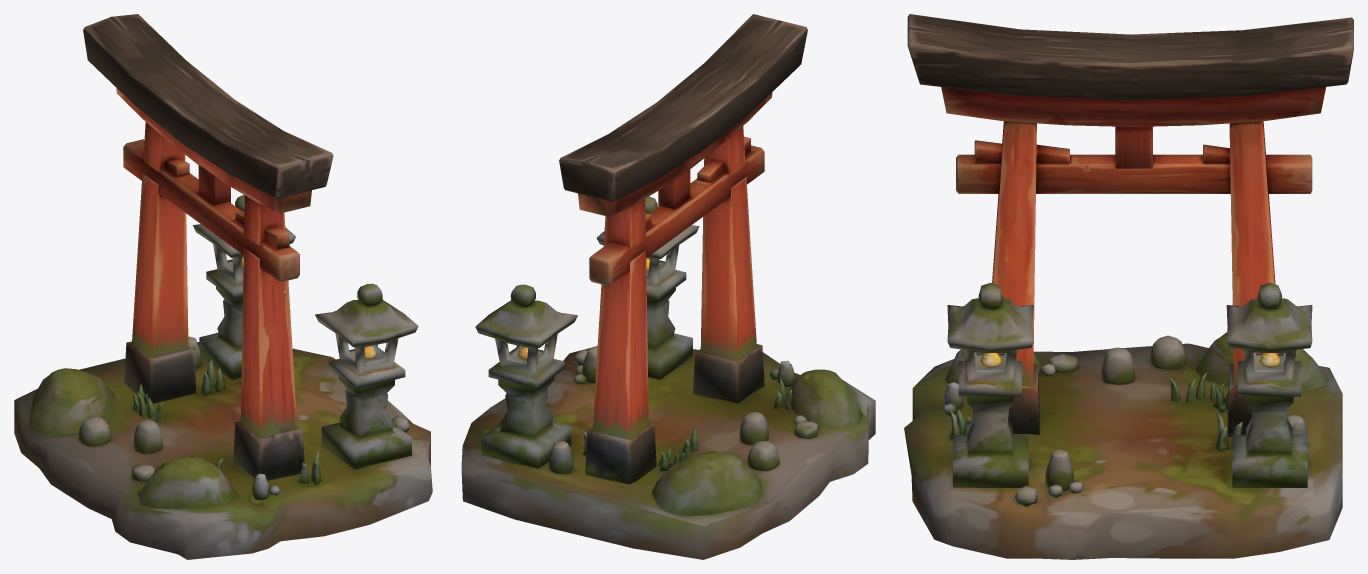
The model's file is torii_shrine.glb.
3 renders of one model, left to right at view 1: azimuth 30°, elevation 25°; view 2: azimuth 150°, elevation 25°; view 3: azimuth 270°, elevation 25°, orthographic. The views are drawn at different scales.
Visible parts, largest first — view 1: tripo_node_e7f07629-0b29-4613-b87a-1e26abd9f7b2; view 2: tripo_node_e7f07629-0b29-4613-b87a-1e26abd9f7b2; view 3: tripo_node_e7f07629-0b29-4613-b87a-1e26abd9f7b2.
Boxes of the visible parts, x1,y1,x2,y2 form: tripo_node_e7f07629-0b29-4613-b87a-1e26abd9f7b2: (14,14,432,559); tripo_node_e7f07629-0b29-4613-b87a-1e26abd9f7b2: (461,14,875,559); tripo_node_e7f07629-0b29-4613-b87a-1e26abd9f7b2: (904,14,1353,559).
Size of the model in its own units: 0.8262 by 0.998 by 0.9316.
Materials: 1 (1 with a texture image).
